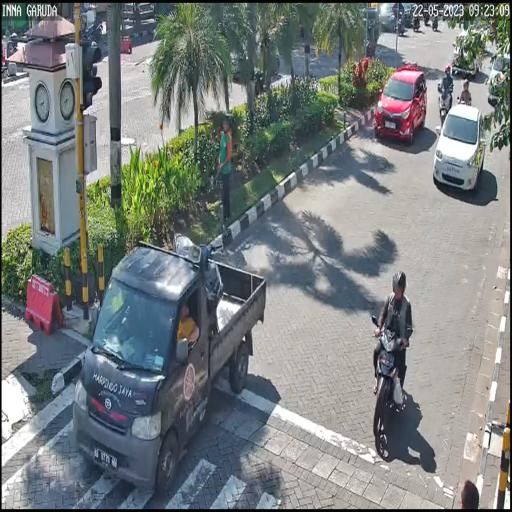mobil: (74, 236, 268, 483), (374, 57, 428, 152), (434, 92, 484, 194)
motor: (368, 305, 416, 458)
